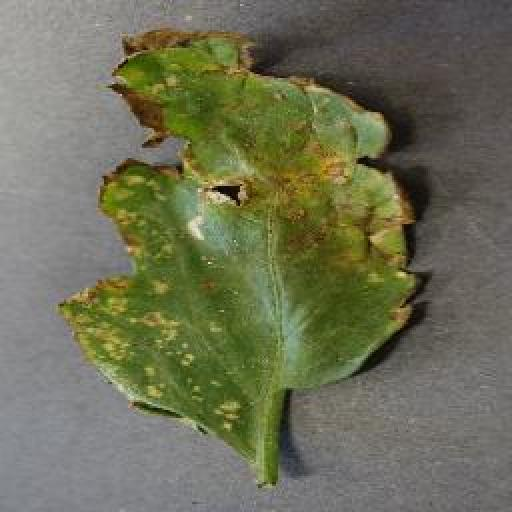Bacterial Spot: (60, 24, 424, 460)
